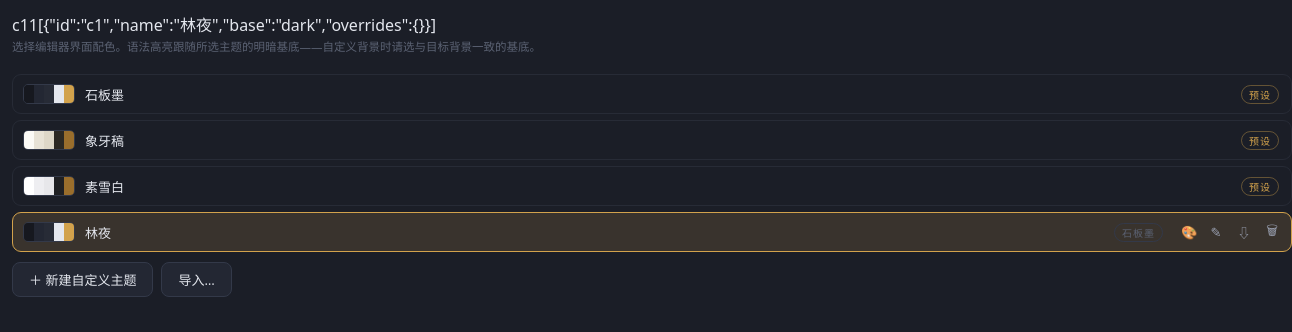
Test: AppearanceSettings › 导出失败 → 显示错误提示，不抛未捕获异常
Click the button named "导出 林夜": [1244, 232] box [1231, 219, 1257, 245]
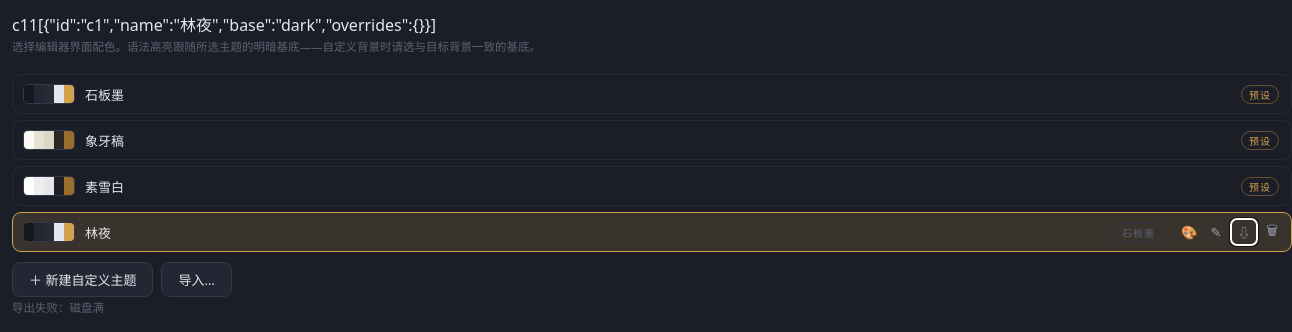
Expected: the text "导出失败：磁盘满" is shown, [12, 300, 104, 315]
